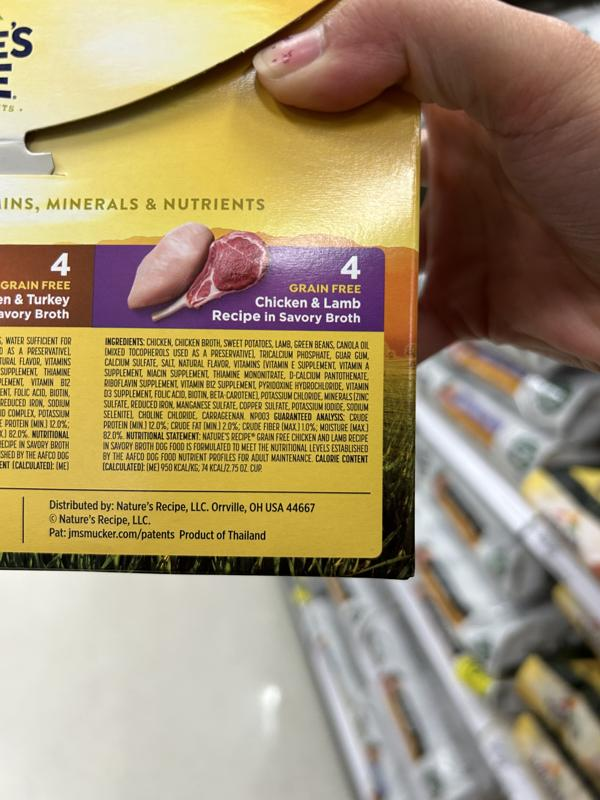ingredients: (99, 337, 374, 475)
